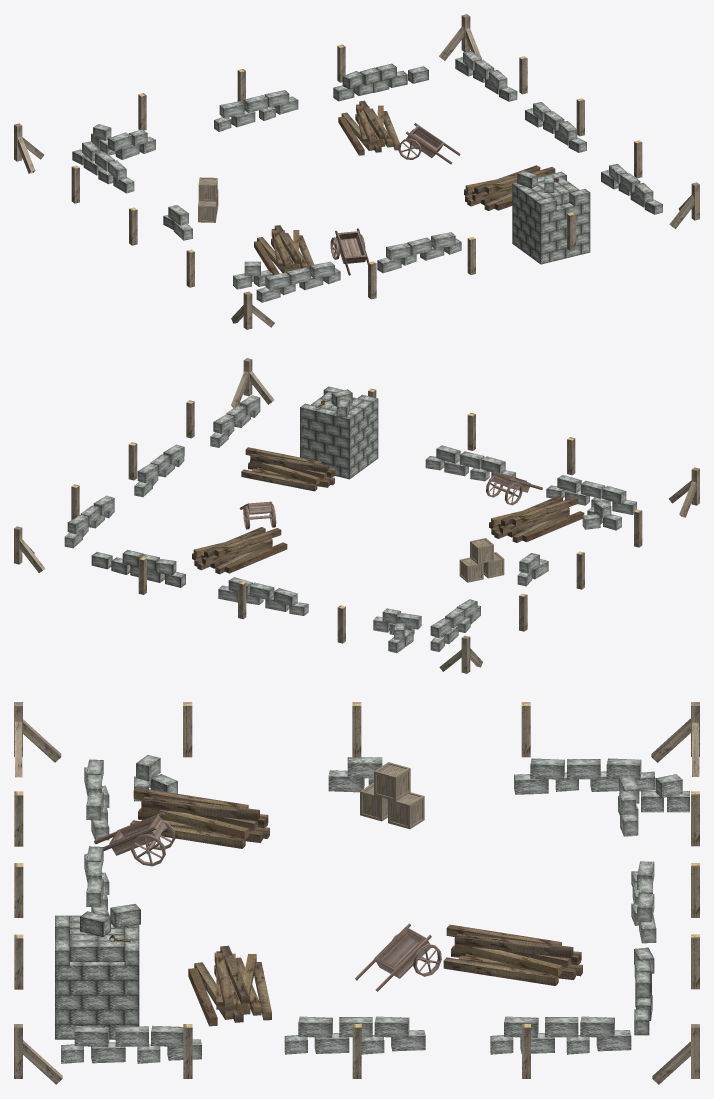
The model's file is fndn_9x8.glb.
3 views of the same model, one above another, from view 1: azimuth 30°, elevation 25°; view 2: azimuth 150°, elevation 25°; view 3: azimuth 270°, elevation 25° (orthographic). The views are drawn at different scales.
Parts seen in each view (by area): view 1: fndn_9x8_part31, fndn_9x8_part48, fndn_9x8_part18, fndn_9x8_part47, fndn_9x8_part36, fndn_9x8_part35, fndn_9x8_part46, fndn_9x8_part30, fndn_9x8_part17, fndn_9x8_part39, fndn_9x8_part37, fndn_9x8_part38 (+8 smaller); view 2: fndn_9x8_part31, fndn_9x8_part46, fndn_9x8_part48, fndn_9x8_part47, fndn_9x8_part35, fndn_9x8_part36, fndn_9x8_part18, fndn_9x8_part30, fndn_9x8_part17, fndn_9x8_part37, fndn_9x8_part39, fndn_9x8_part38 (+10 smaller); view 3: fndn_9x8_part31, fndn_9x8_part48, fndn_9x8_part47, fndn_9x8_part46, fndn_9x8_part38, fndn_9x8_part39, fndn_9x8_part37, fndn_9x8_part30, fndn_9x8_part17, fndn_9x8_part45, fndn_9x8_part44, fndn_9x8_part18 (+13 smaller).
Boxes of the visible parts, <box> form: fndn_9x8_part31: <box>512,171,590,264</box>; fndn_9x8_part48: <box>338,100,399,155</box>; fndn_9x8_part18: <box>214,90,298,131</box>; fndn_9x8_part47: <box>254,225,314,274</box>; fndn_9x8_part36: <box>256,261,340,302</box>; fndn_9x8_part35: <box>377,232,461,273</box>; fndn_9x8_part46: <box>464,165,555,210</box>; fndn_9x8_part30: <box>72,141,134,193</box>; fndn_9x8_part17: <box>91,124,155,159</box>; fndn_9x8_part39: <box>601,164,662,214</box>; fndn_9x8_part37: <box>455,51,517,101</box>; fndn_9x8_part38: <box>525,102,586,152</box>; fndn_9x8_part31: <box>300,386,378,479</box>; fndn_9x8_part46: <box>241,447,335,491</box>; fndn_9x8_part48: <box>192,527,287,574</box>; fndn_9x8_part47: <box>489,495,584,542</box>; fndn_9x8_part35: <box>425,445,515,481</box>; fndn_9x8_part36: <box>546,475,636,514</box>; fndn_9x8_part18: <box>218,577,308,615</box>; fndn_9x8_part30: <box>430,599,480,651</box>; fndn_9x8_part17: <box>373,608,421,653</box>; fndn_9x8_part37: <box>64,495,114,548</box>; fndn_9x8_part39: <box>210,395,260,447</box>; fndn_9x8_part38: <box>134,444,184,496</box>; fndn_9x8_part31: <box>55,915,139,1039</box>; fndn_9x8_part48: <box>443,924,582,985</box>; fndn_9x8_part47: <box>130,787,269,848</box>; fndn_9x8_part46: <box>188,945,271,1026</box>; fndn_9x8_part38: <box>284,1016,425,1054</box>; fndn_9x8_part39: <box>61,1025,201,1063</box>; fndn_9x8_part37: <box>490,1016,631,1054</box>; fndn_9x8_part30: <box>514,758,655,794</box>; fndn_9x8_part17: <box>618,774,689,836</box>; fndn_9x8_part45: <box>355,923,441,991</box>; fndn_9x8_part44: <box>87,812,175,866</box>; fndn_9x8_part18: <box>631,861,656,943</box>.
Bounding box in the file's own units: 7.65 × 1.22 × 6.81.
Materials: 5 (5 with a texture image).
